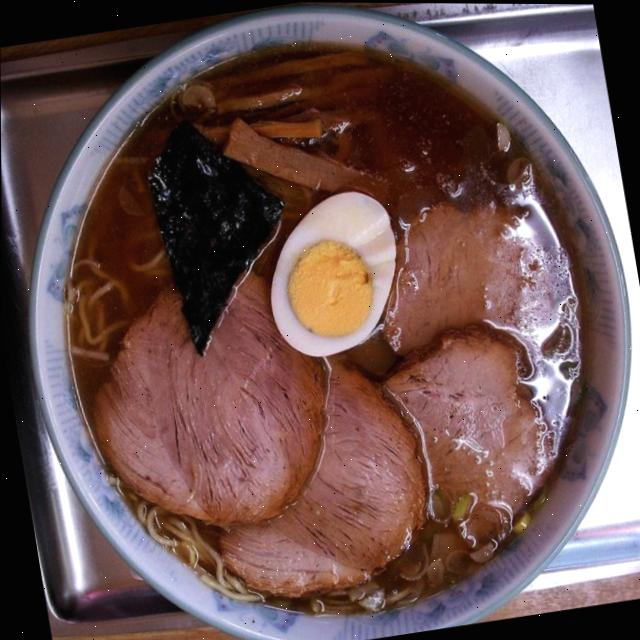面条主食: (25, 0, 640, 640)
